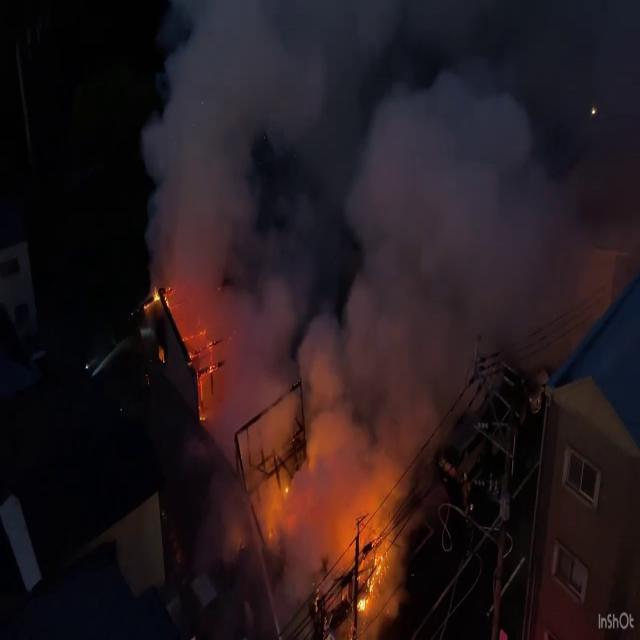Smoke: (134, 0, 616, 473)
